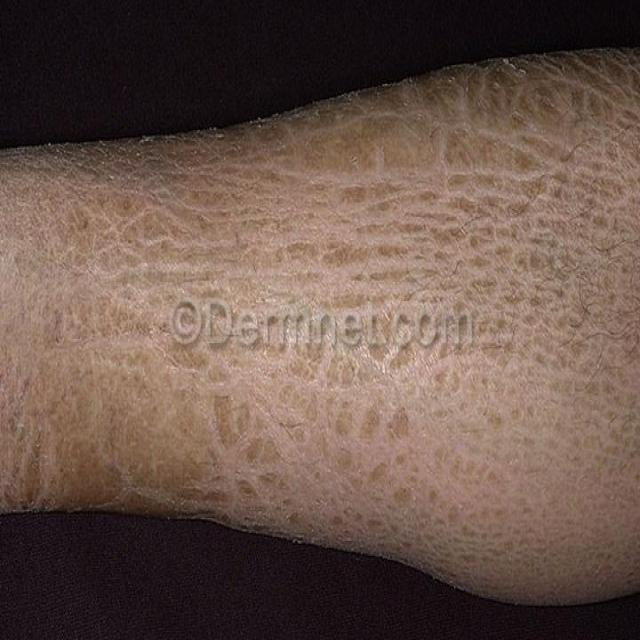19: (0, 47, 639, 611)
liquenificacion 1: (0, 47, 639, 611)
liquenificacion 2: (0, 47, 639, 611)
